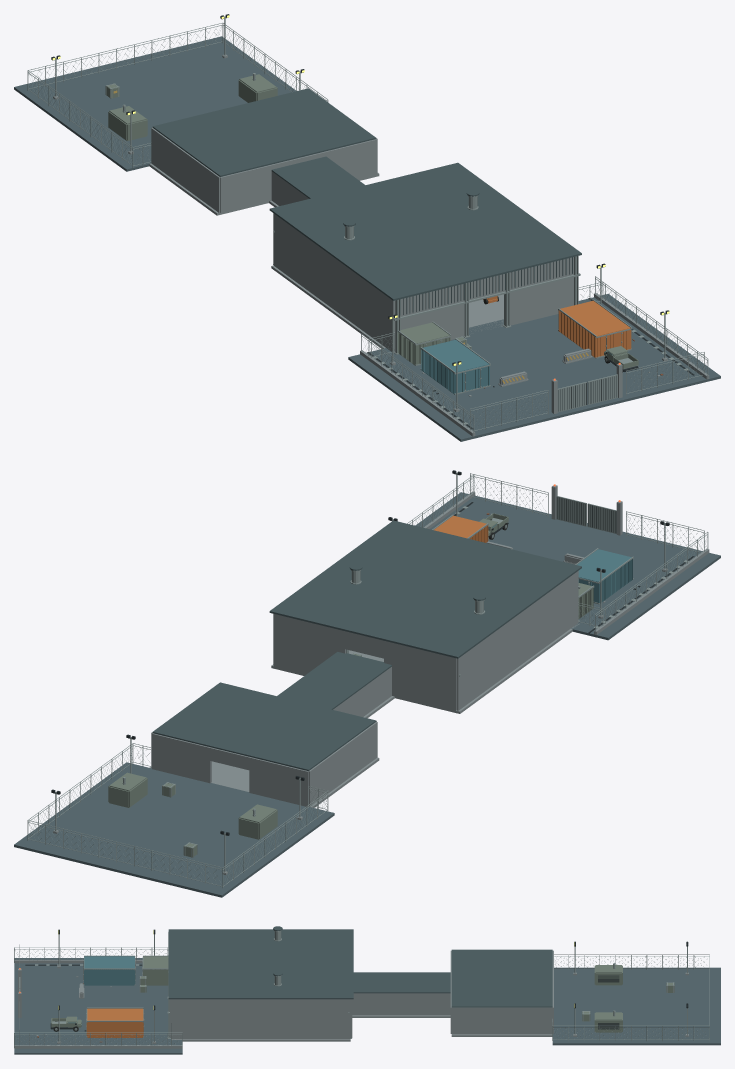
The model's file is environment.glb.
3 views of the same model, one above another, from view 1: azimuth 30°, elevation 25°; view 2: azimuth 150°, elevation 25°; view 3: azimuth 270°, elevation 25° (orthographic). The views are drawn at different scales.
Parts seen in each view (by area): view 1: warehouse__paint-dark, yard__asphalt, extraction__asphalt, control__paint-dark, yard__concrete, warehouse__concrete, yard__steel, corridor__concrete, extraction__steel, control__concrete, yard__paint-orange, yard__paint-blue (+5 smaller); view 2: warehouse__paint-dark, extraction__asphalt, warehouse__concrete, yard__asphalt, control__paint-dark, control__concrete, yard__steel, extraction__steel, corridor__paint-dark, extraction__paint-olive, yard__paint-blue, yard__concrete (+4 smaller); view 3: warehouse__paint-dark, extraction__asphalt, yard__asphalt, warehouse__concrete, control__paint-dark, control__concrete, corridor__concrete, yard__steel, corridor__paint-dark, extraction__steel, yard__paint-orange, yard__paint-blue (+4 smaller).
Part boxes in pixels (<box>): warehouse__paint-dark: <box>269,162,581,300</box>; yard__asphalt: <box>348,293,720,441</box>; extraction__asphalt: <box>14,36,295,171</box>; control__paint-dark: <box>152,88,376,176</box>; yard__concrete: <box>360,257,709,436</box>; warehouse__concrete: <box>271,213,503,352</box>; yard__steel: <box>361,255,708,436</box>; corridor__concrete: <box>220,139,376,212</box>; extraction__steel: <box>27,16,327,165</box>; control__concrete: <box>149,127,379,215</box>; yard__paint-orange: <box>558,300,631,357</box>; yard__paint-blue: <box>421,339,489,393</box>; warehouse__paint-dark: <box>269,520,581,658</box>; extraction__asphalt: <box>14,762,334,897</box>; warehouse__concrete: <box>271,571,579,713</box>; yard__asphalt: <box>415,492,720,640</box>; control__paint-dark: <box>152,682,376,770</box>; control__concrete: <box>149,722,379,807</box>; yard__steel: <box>390,472,708,628</box>; extraction__steel: <box>27,737,327,887</box>; corridor__paint-dark: <box>277,652,391,709</box>; extraction__paint-olive: <box>108,772,277,857</box>; yard__paint-blue: <box>577,549,632,603</box>; yard__concrete: <box>423,485,709,634</box>; warehouse__paint-dark: <box>168,926,353,999</box>; extraction__asphalt: <box>552,967,720,1045</box>; yard__asphalt: <box>14,958,182,1054</box>; warehouse__concrete: <box>171,999,352,1041</box>; control__paint-dark: <box>451,949,552,1007</box>; control__concrete: <box>451,950,553,1036</box>; corridor__concrete: <box>352,950,451,1033</box>; yard__steel: <box>14,932,182,1047</box>; corridor__paint-dark: <box>353,972,450,993</box>; extraction__steel: <box>553,946,709,1041</box>; yard__paint-orange: <box>86,1008,143,1037</box>; yard__paint-blue: <box>84,956,135,985</box>.
Size of the model in its own units: 40 by 10.89 by 126.
